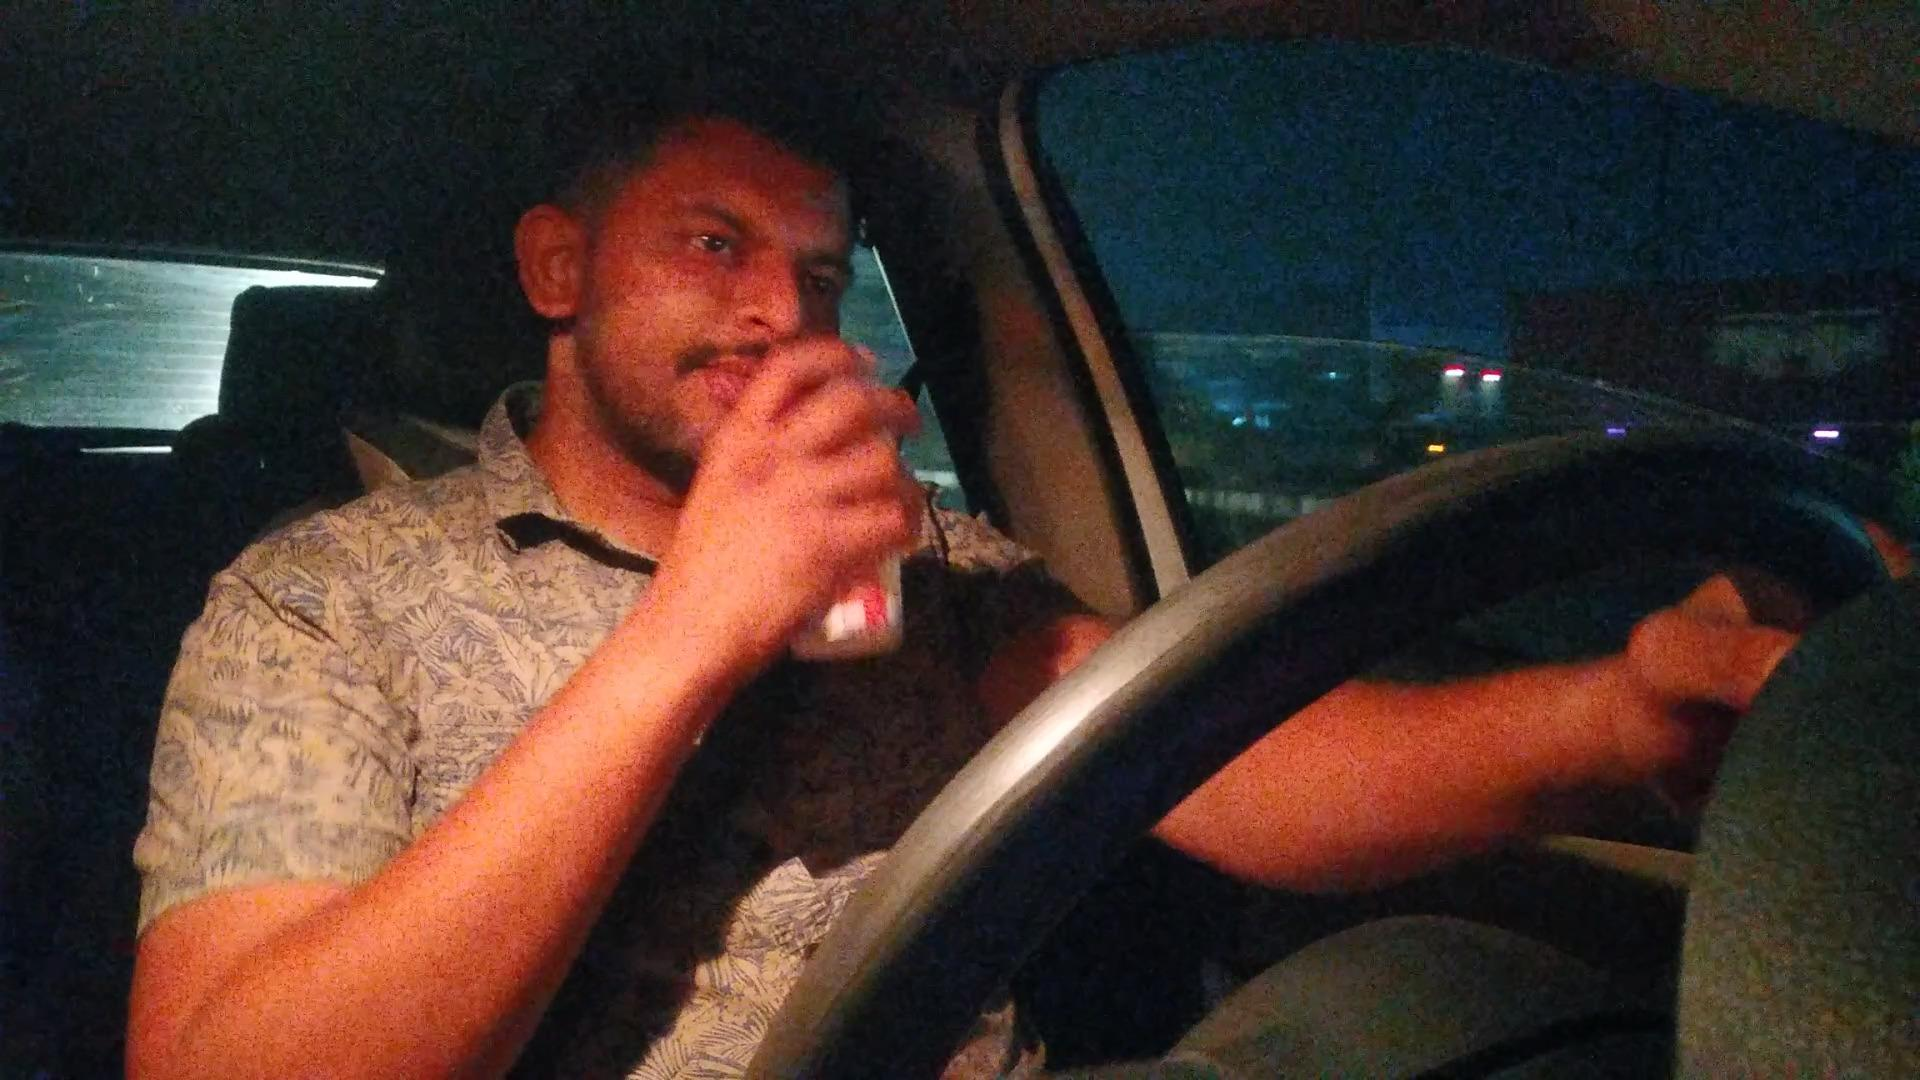Drinking: (514, 105, 911, 662)
